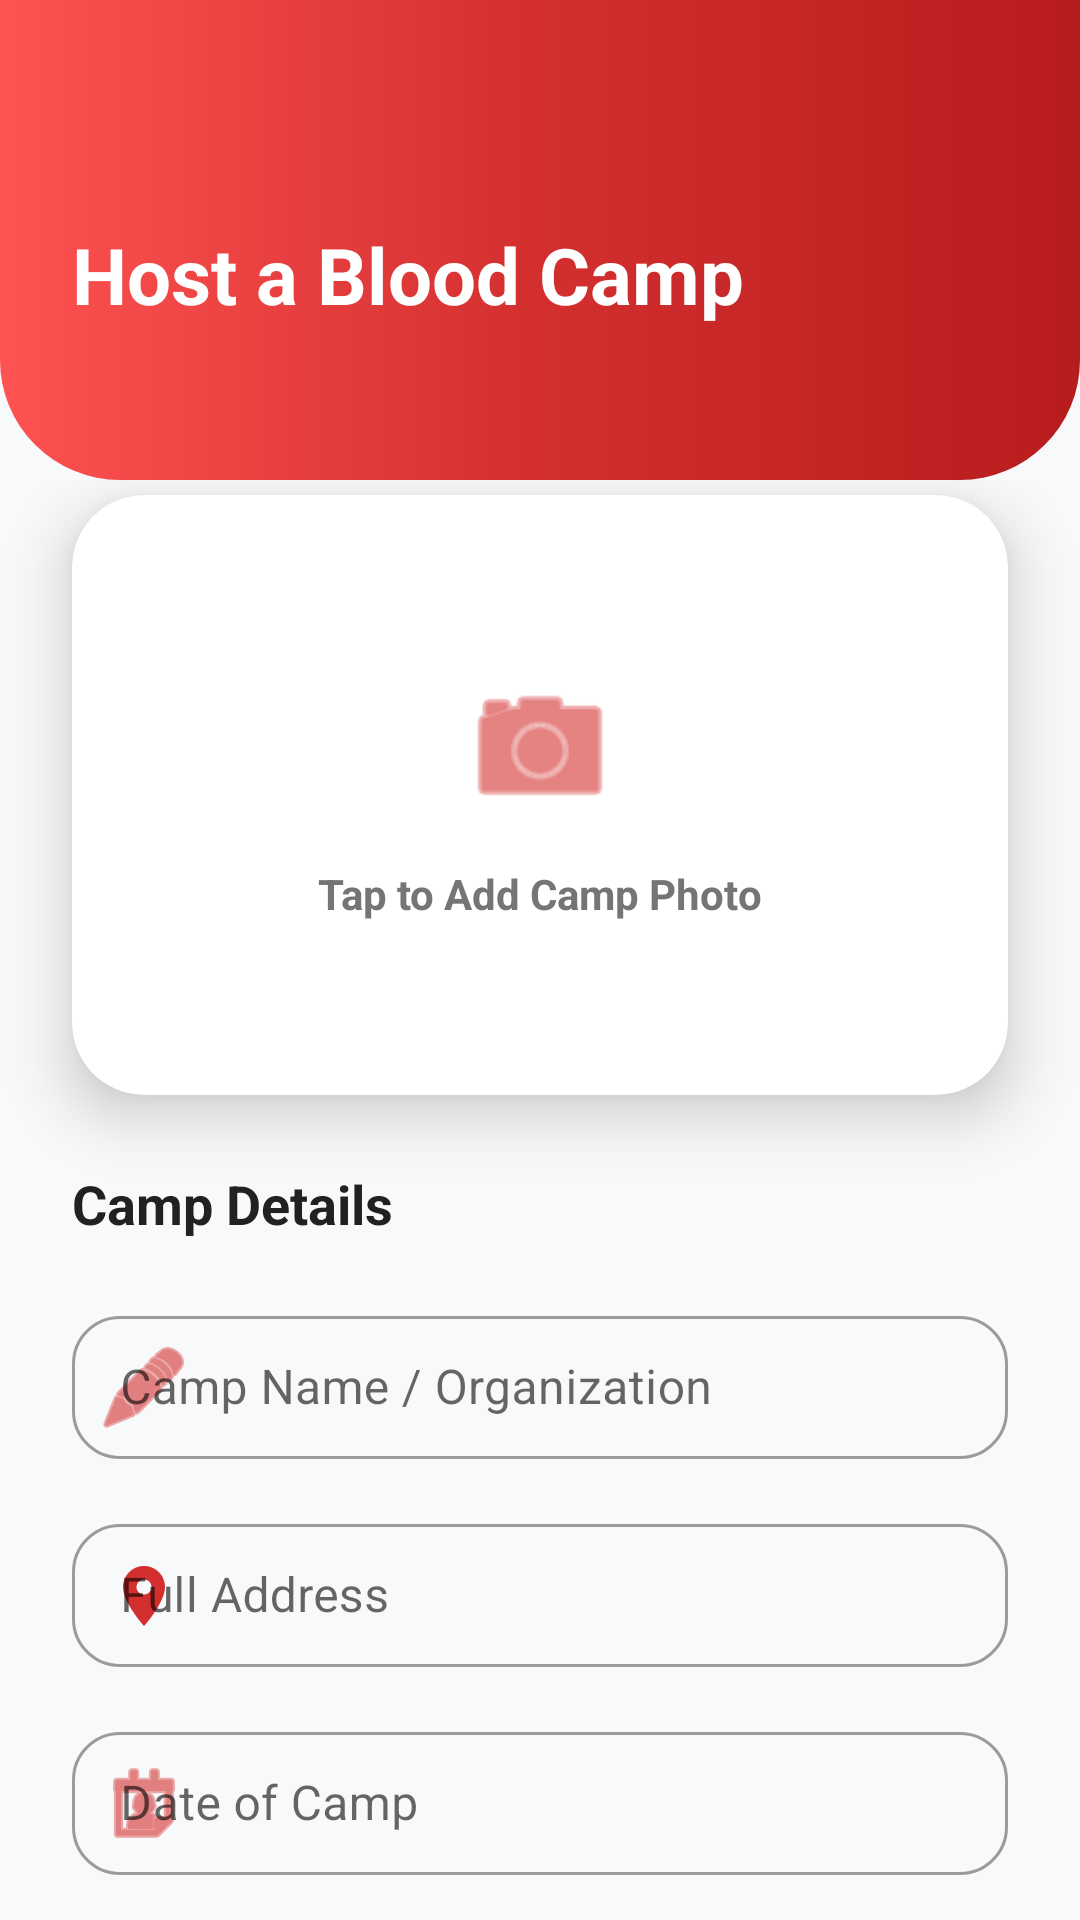

Icon bounding boxes for this 1080×1920 phone screenshot, format (x1=x1, y1=y1, x2=x2, y2=y2):
camera: (x1=477, y1=696, x2=603, y2=795)
